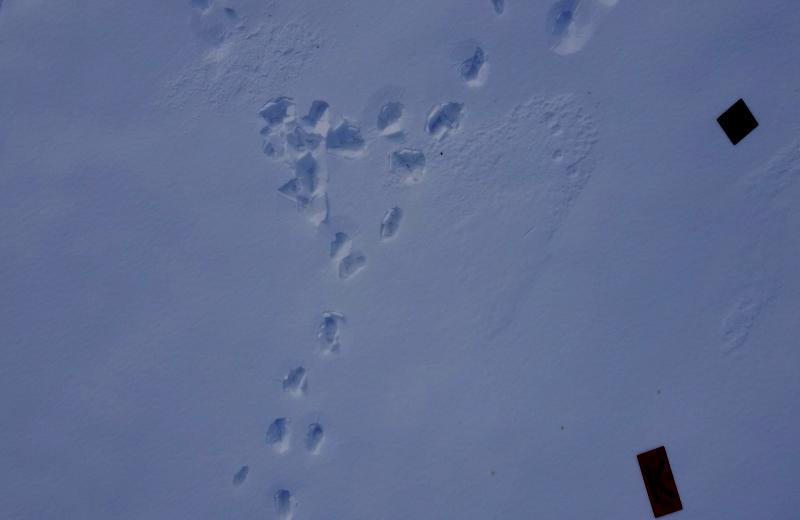Rectangle: (634, 444, 683, 520)
Square: (716, 96, 758, 148)
